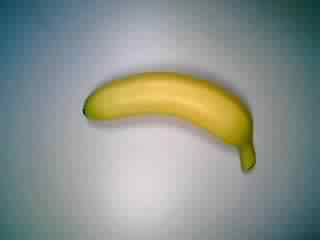banana: (79, 70, 258, 174)
